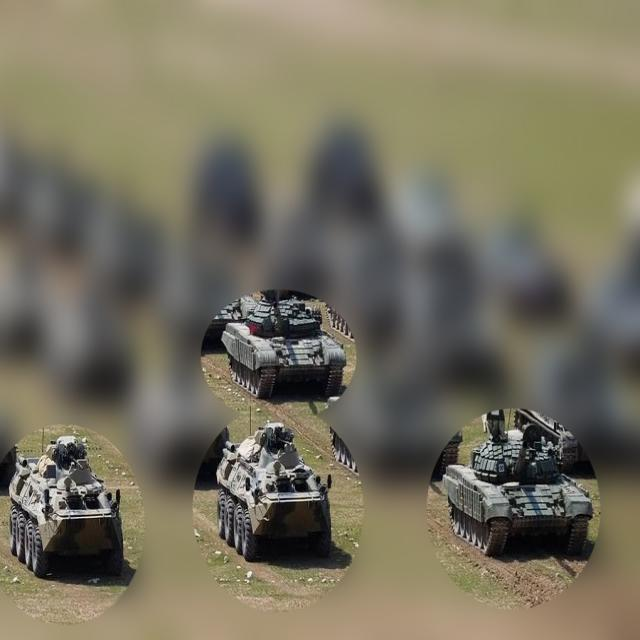tank: (442, 407, 595, 557), (6, 431, 127, 577), (215, 421, 333, 563), (219, 295, 348, 402)
